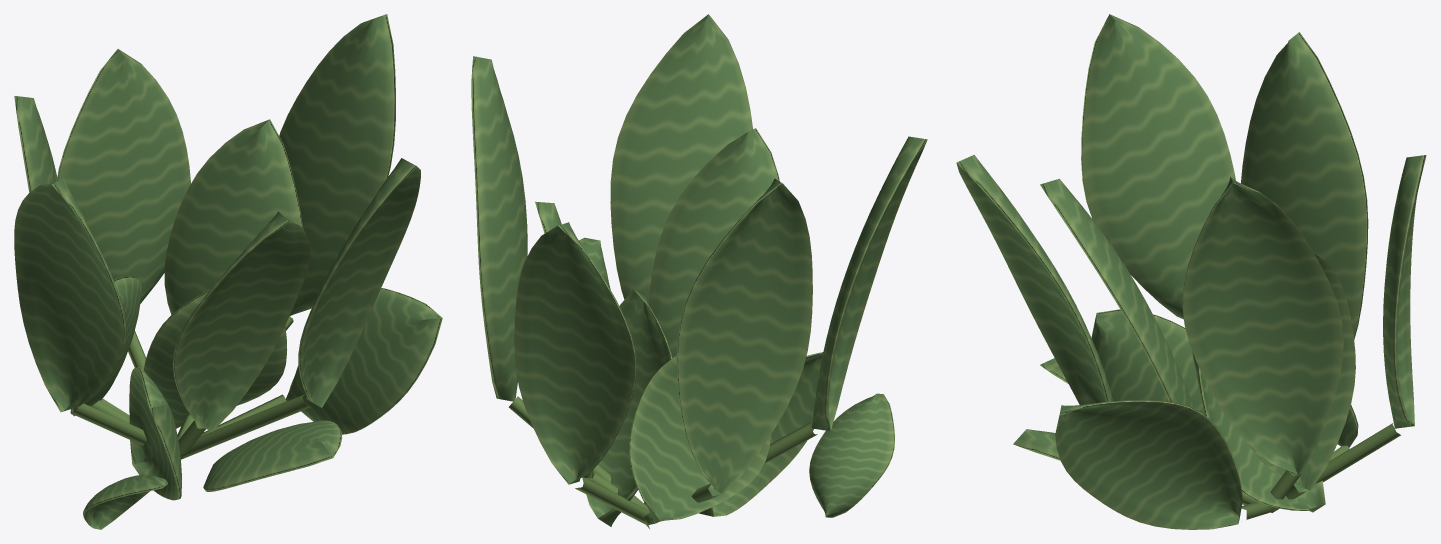
File: sansevieria-stage-5.glb
3 renders of one model, left to right at view 1: azimuth 30°, elevation 25°; view 2: azimuth 150°, elevation 25°; view 3: azimuth 270°, elevation 25°, orthographic. The views are drawn at different scales.
Visible parts, largest first — view 1: Leaf_9, Leaf_11, Leaf_10, Leaf_7, Leaf_6, Leaf_8, Leaf_3, Leaf_0, PlantBranches, Leaf_2, Leaf_1, Leaf_5 (+2 smaller); view 2: Leaf_5, Leaf_9, Leaf_8, Leaf_11, Leaf_7, Leaf_4, Leaf_10, Leaf_12, Leaf_1, Leaf_2, PlantBranches, Leaf_6 (+1 smaller); view 3: Leaf_11, Leaf_10, Leaf_5, Leaf_3, Leaf_8, Leaf_9, Leaf_7, Leaf_2, Leaf_1, Leaf_6, PlantBranches, Leaf_0.
Boxes of the visible parts, x1,y1,x2,y2 form: Leaf_9: (57, 49, 190, 303); Leaf_11: (279, 14, 395, 315); Leaf_10: (14, 177, 125, 412); Leaf_7: (172, 211, 310, 431); Leaf_6: (164, 119, 303, 314); Leaf_8: (298, 158, 420, 407); Leaf_3: (286, 288, 442, 434); Leaf_0: (203, 420, 342, 491); PlantBranches: (70, 316, 310, 459); Leaf_2: (129, 367, 181, 500); Leaf_1: (143, 289, 286, 428); Leaf_5: (14, 96, 57, 192); Leaf_5: (677, 178, 812, 494); Leaf_9: (514, 222, 637, 484); Leaf_8: (610, 14, 752, 303); Leaf_11: (471, 56, 527, 401); Leaf_7: (648, 128, 779, 357); Leaf_4: (629, 355, 771, 523); Leaf_10: (811, 136, 927, 431); Leaf_12: (809, 393, 894, 517); Leaf_1: (582, 289, 672, 526); Leaf_2: (699, 352, 823, 516); PlantBranches: (508, 396, 817, 528); Leaf_6: (535, 201, 593, 478); Leaf_11: (1182, 176, 1343, 475); Leaf_10: (1081, 14, 1235, 319); Leaf_5: (1241, 32, 1368, 339); Leaf_3: (1055, 400, 1242, 529); Leaf_8: (956, 155, 1113, 404); Leaf_9: (1383, 155, 1426, 428); Leaf_7: (1040, 178, 1194, 408); Leaf_2: (1091, 309, 1204, 414); Leaf_1: (1192, 350, 1325, 512); Leaf_6: (1247, 253, 1355, 490); PlantBranches: (1241, 423, 1400, 519); Leaf_0: (1013, 429, 1060, 460).
Size of the model in its own units: 1.49 by 1.49 by 1.47.
Materials: 2 (1 with a texture image).
